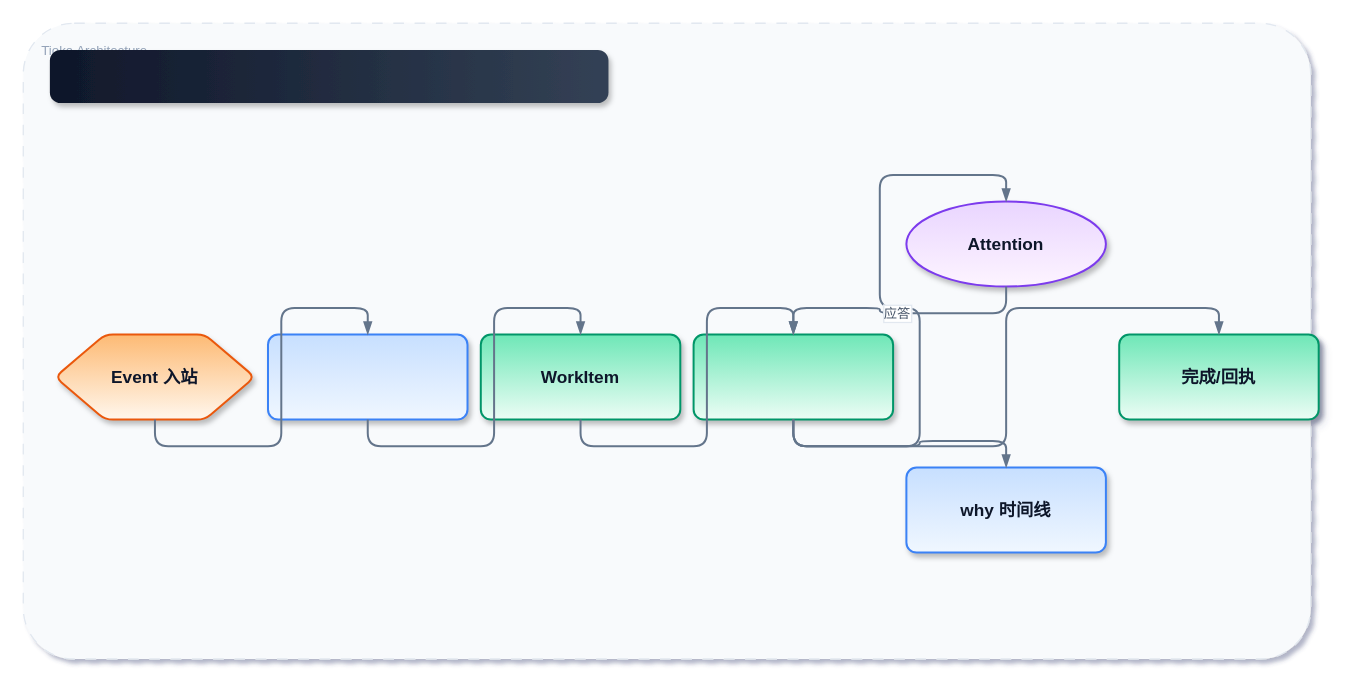
The diagram is 1359 pixels wide and 690 high, and some of its shapes have lost their labels. The shapes that lost their labels are listed below. From the top down, each one's centre as x and y in pixels, then its label:
At (x=330, y=78): "编排主链".
At (x=368, y=378): "Rule 匹配".
At (x=794, y=378): "Run 租约".
